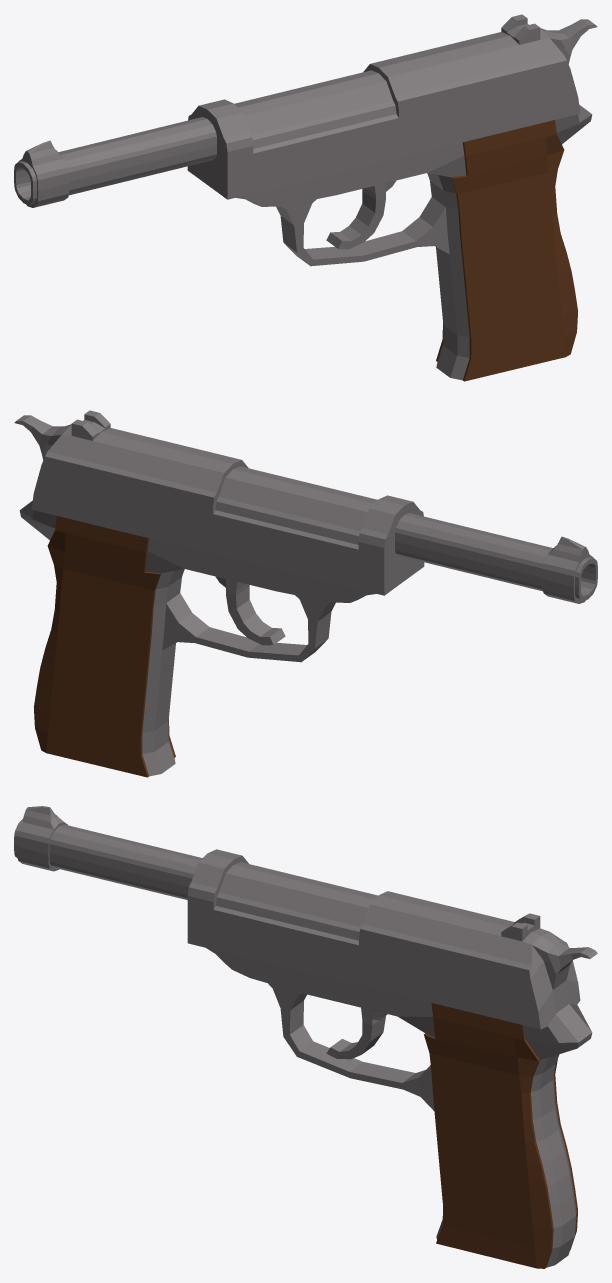
The model's file is Walther_P38_seperated.fbx.
3 views of the same model, one above another, from view 1: azimuth 30°, elevation 25°; view 2: azimuth 150°, elevation 25°; view 3: azimuth 330°, elevation 25° (orthographic).
Visible parts, largest first — view 1: Teil3, Teil2, Teil1, Teil4; view 2: Teil3, Teil2, Teil1, Teil4; view 3: Teil3, Teil2, Teil1, Teil4.
Boxes of the visible parts, x1,y1,x2,y2 form: Teil3: (187, 14, 597, 199); Teil2: (326, 120, 577, 381); Teil1: (234, 70, 592, 380); Teil4: (14, 117, 216, 207); Teil3: (14, 410, 424, 595); Teil2: (34, 516, 285, 777); Teil1: (19, 466, 377, 776); Teil4: (395, 513, 597, 603); Teil3: (187, 849, 597, 1029); Teil2: (326, 1003, 577, 1268); Teil1: (206, 862, 592, 1267); Teil4: (14, 806, 202, 899).
Bounding box in the file's own units: 909 × 503 × 110.
